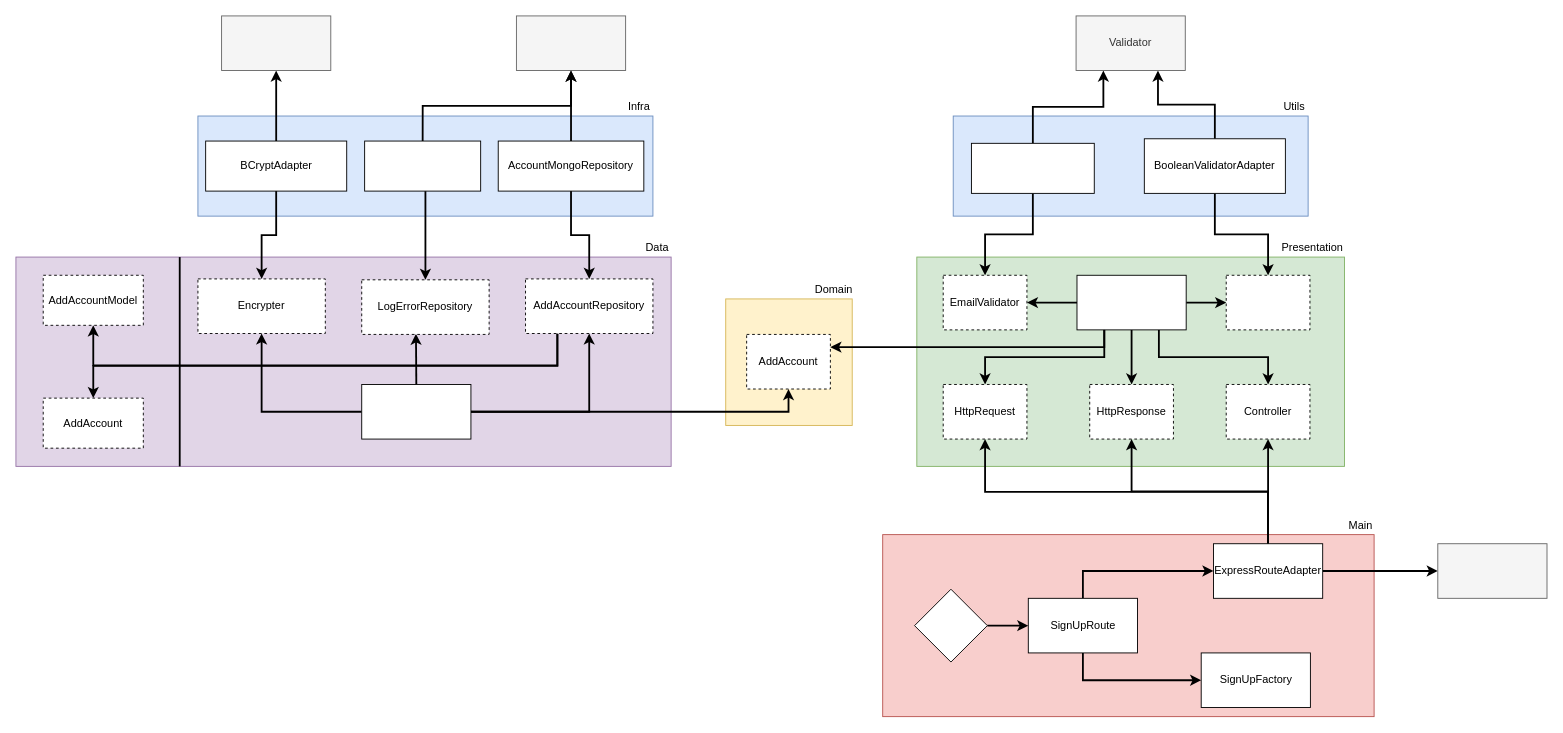
The diagram is 1563 pixels wide and 733 high, and some of its shapes have lost their labels. Here are the shapes that lost their labels. From the top down, the box of each, then its label:
(221, 15, 331, 71): BCrypt
(516, 15, 626, 71): MongoDB
(364, 140, 481, 191): LogMongoRepository
(971, 142, 1094, 193): EmailValidatorAdapter
(1076, 274, 1186, 330): SignUpController
(1225, 274, 1310, 330): BooleanValidator
(361, 384, 471, 439): DbAddAccount
(1437, 543, 1547, 598): Express
(914, 588, 987, 662): App
